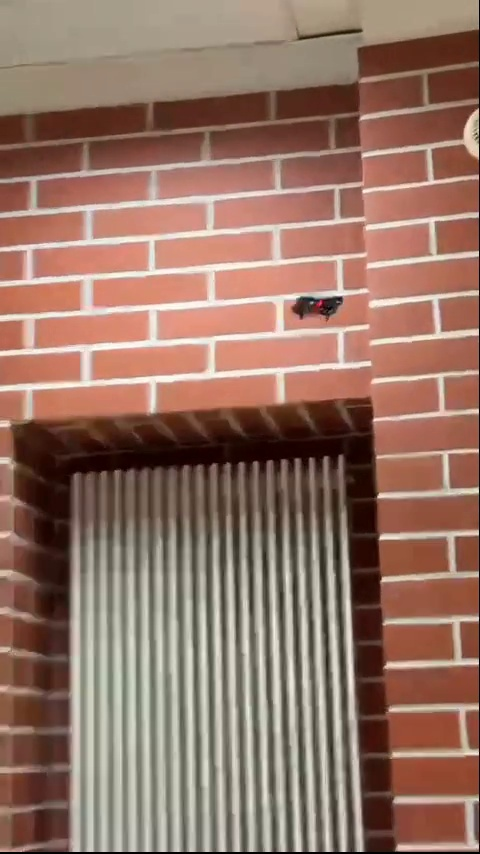drone: (292, 293, 348, 322)
